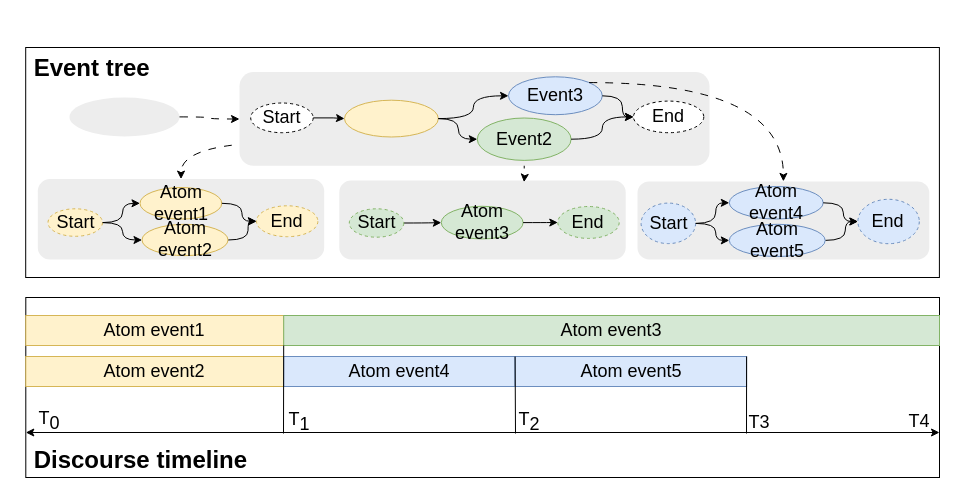
This 967x495 diagram has some shape labels left out. Here are the shapes that lost their labels. From the top down, the centre of each, then its label:
At pixel 124 116: "Root event".
At pixel 391 118: "Event1".
